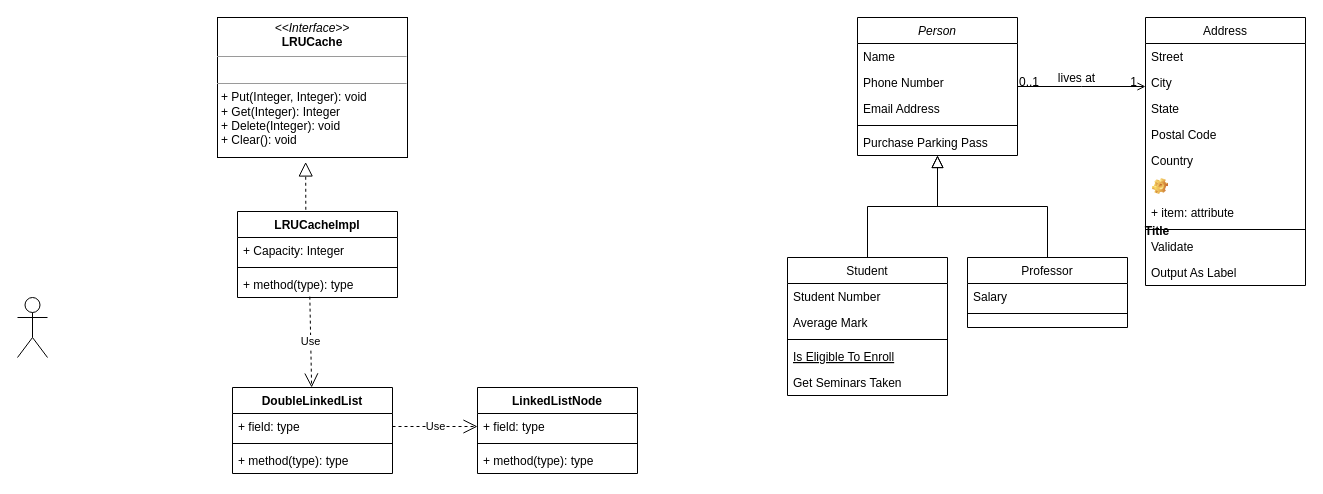
This 1323x494 diagram has some shape labels left out. Each missing label, with the centre of its shape:
"Actor" goes at point 32,327.
"item: attribute" goes at point 1225,186.
